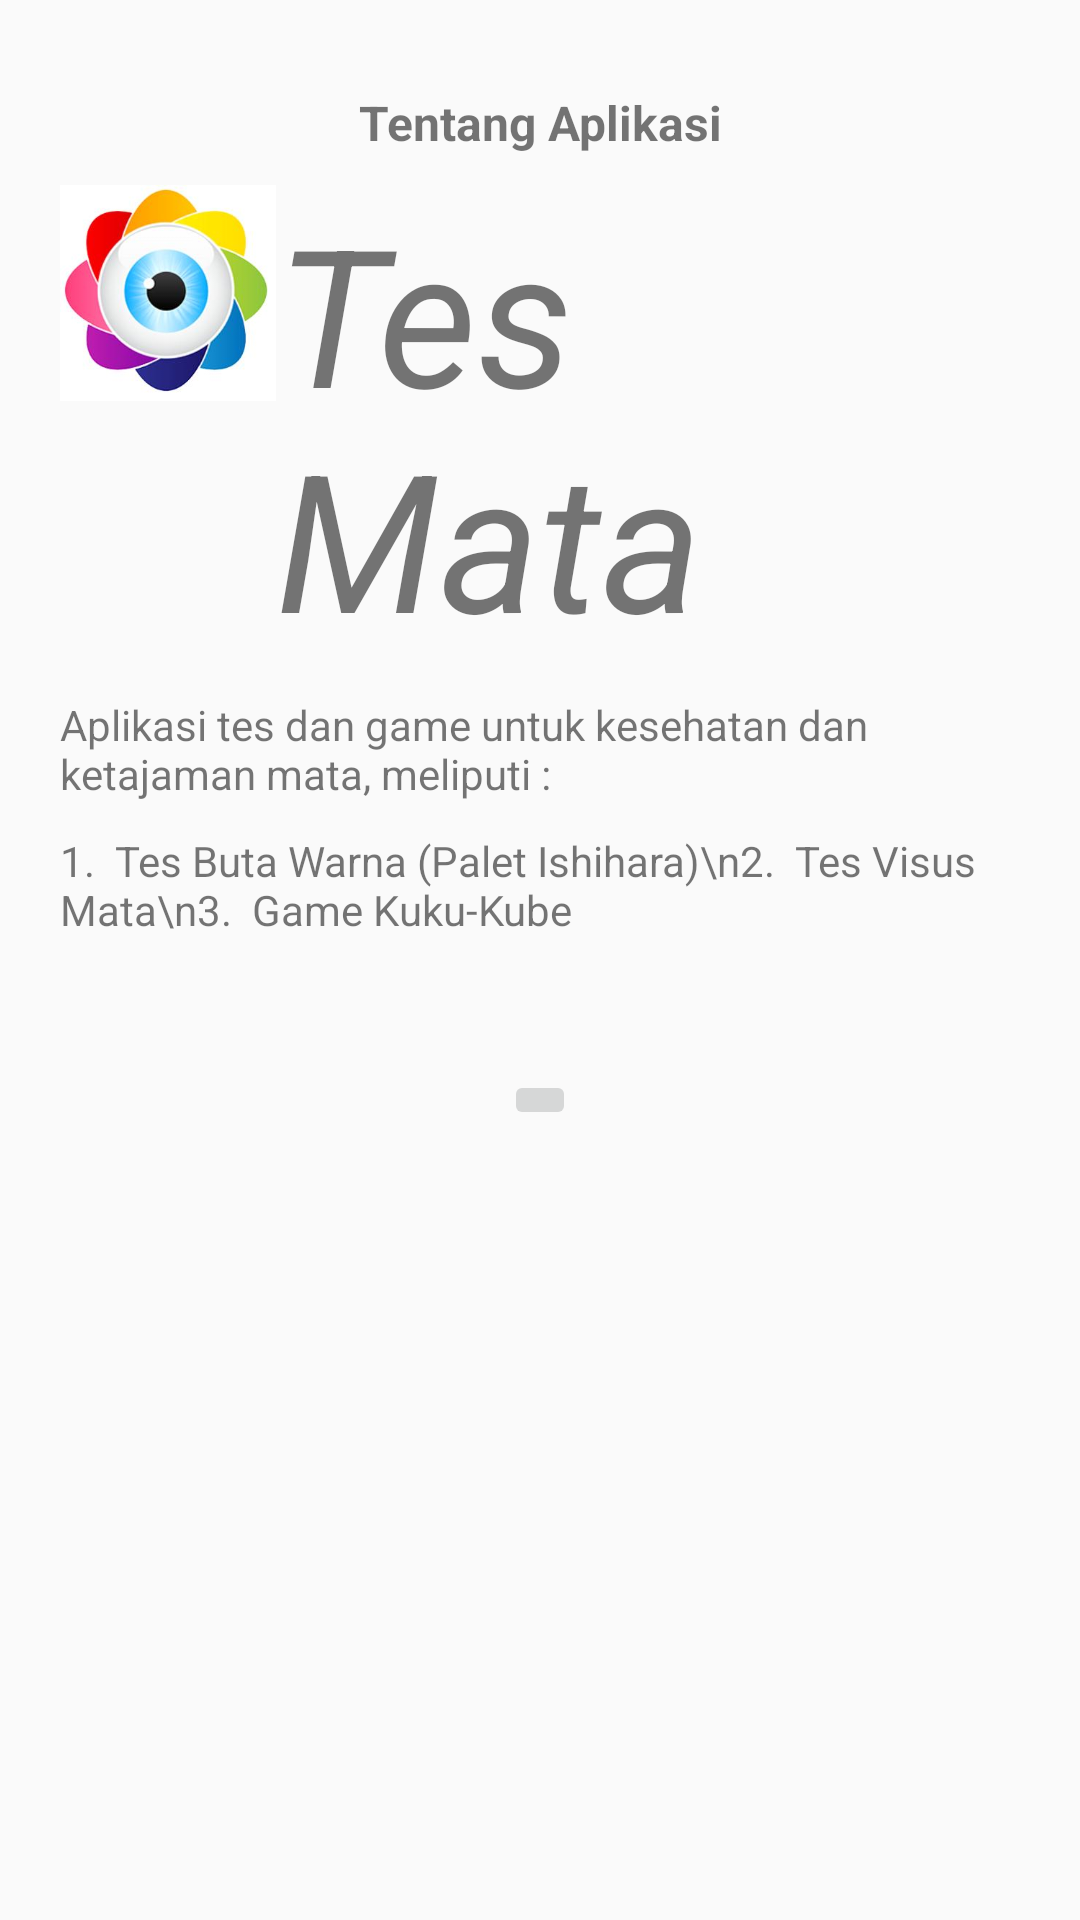

Point at icon controls on the screen. Image size 1080 x 1920, points as (x=x, y=y).
app: (x=166, y=290)
